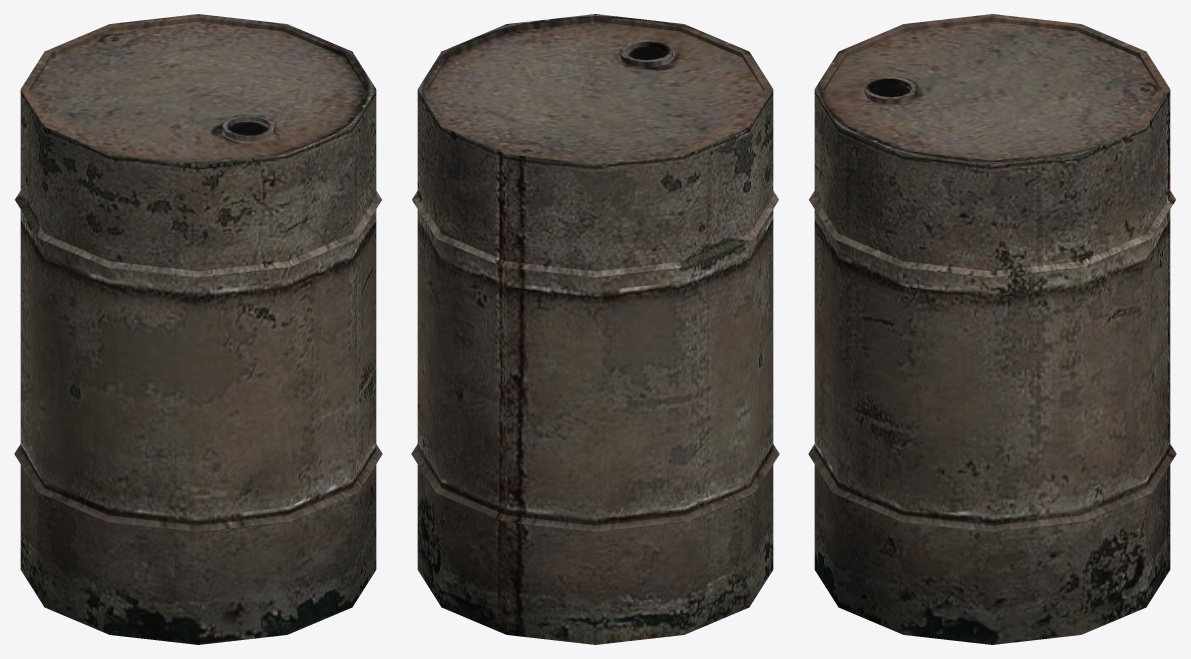
The model's file is r32_fass_3.glb.
3 views of the same model, side by side, from view 1: azimuth 30°, elevation 25°; view 2: azimuth 150°, elevation 25°; view 3: azimuth 270°, elevation 25° (orthographic).
Parts seen in each view (by area): view 1: fass; view 2: fass; view 3: fass.
Part boxes in pixels (box(x1,y1,x2,y2)): fass: box(14, 14, 382, 644); fass: box(411, 14, 779, 644); fass: box(808, 14, 1176, 644).
Bounding box in the file's own units: 0.6936 × 1 × 0.6936.
1 material, 1 textured.
